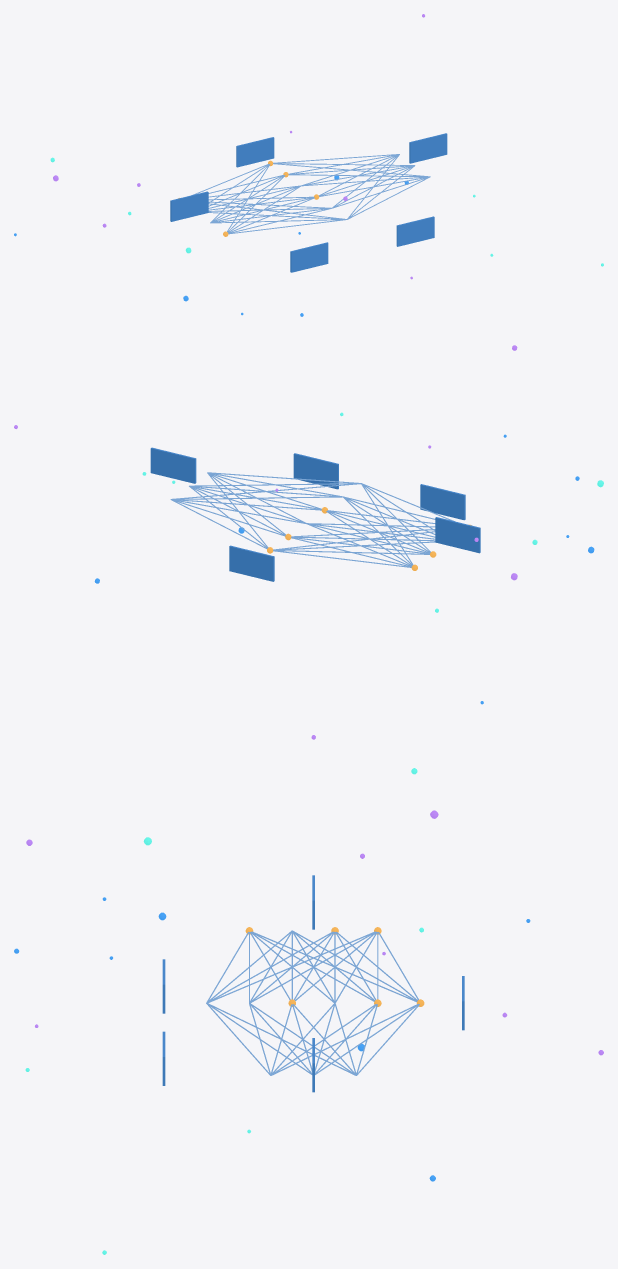
File: mlops_intro.glb
The picture shows the model from 3 angles, top to bottom: view 1: azimuth 30°, elevation 25°; view 2: azimuth 150°, elevation 25°; view 3: azimuth 270°, elevation 25°; orthographic projection. The views are drawn at different scales.
Parts seen in each view (by area): view 1: Panel_F1Score, Panel_Loss, Panel_LR, Panel_Epochs, Panel_Accuracy; view 2: Panel_F1Score, Panel_Accuracy, Panel_LR, Panel_Loss, Panel_Epochs; view 3: no part large enough to name.
Boxes of the visible parts, <box> form: Panel_F1Score: <box>409,133,447,163</box>; Panel_Loss: <box>170,191,208,221</box>; Panel_LR: <box>290,242,328,272</box>; Panel_Epochs: <box>396,216,434,246</box>; Panel_Accuracy: <box>236,137,274,167</box>; Panel_F1Score: <box>150,447,196,483</box>; Panel_Accuracy: <box>229,545,274,581</box>; Panel_LR: <box>420,484,465,520</box>; Panel_Loss: <box>435,517,480,553</box>; Panel_Epochs: <box>293,453,338,489</box>.
Size of what is drawn, in the model's own units: 16.66 by 6.19 by 13.79.
